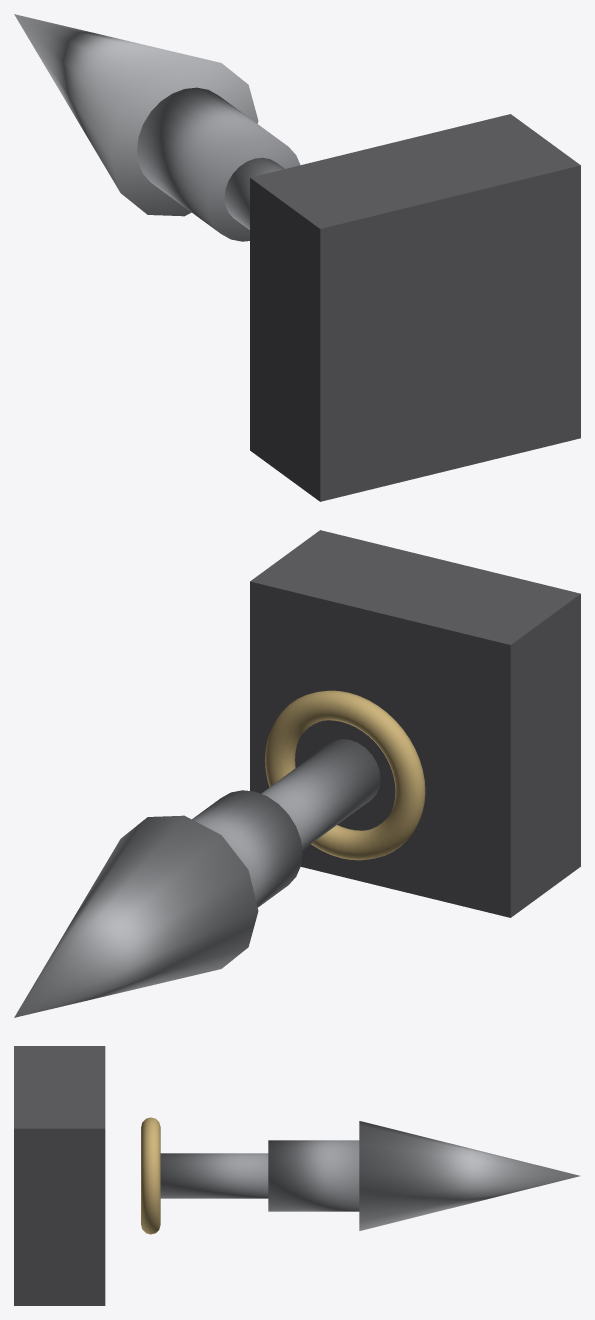
Rendered from blade.glb.
The picture shows the model from 3 angles, top to bottom: view 1: azimuth 30°, elevation 25°; view 2: azimuth 150°, elevation 25°; view 3: azimuth 270°, elevation 25°; orthographic projection. The views are drawn at different scales.
Parts seen in each view (by area): view 1: Blade; view 2: Blade; view 3: Blade.
Boxes of the visible parts, x1,y1,x2,y2 form: Blade: [14, 14, 580, 501]; Blade: [14, 530, 580, 1017]; Blade: [14, 1046, 579, 1305].
Size of the model in its own units: 0.3 by 0.3 by 0.87.
